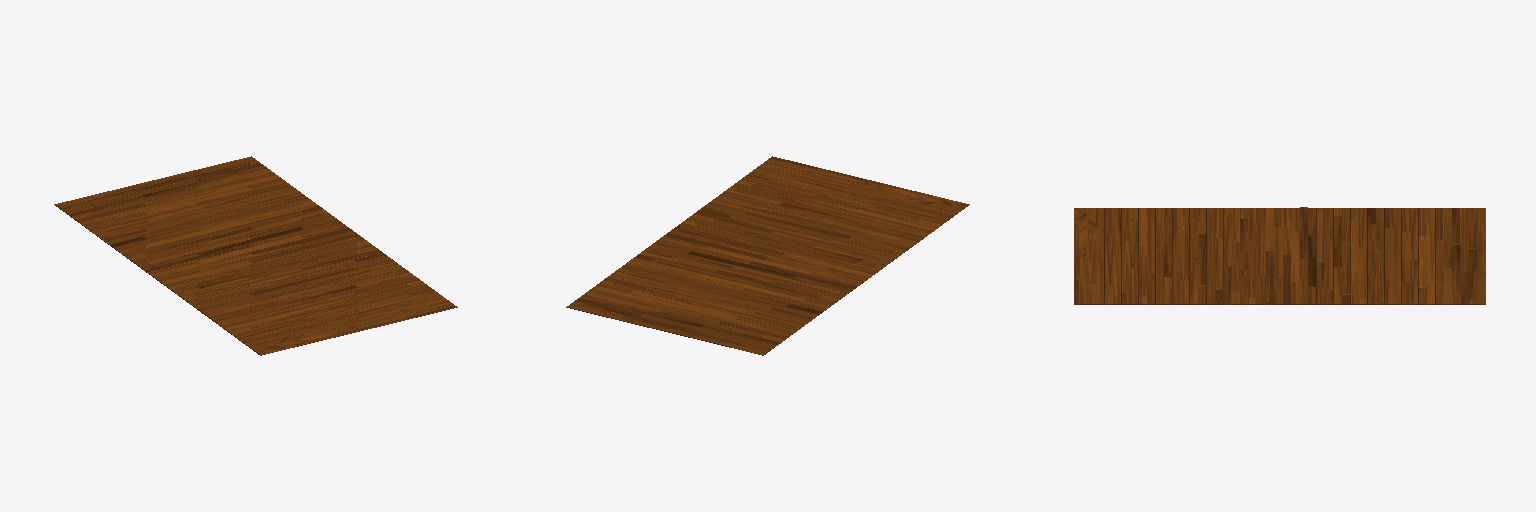
The picture shows the model from 3 angles: view 1: azimuth 30°, elevation 25°; view 2: azimuth 150°, elevation 25°; view 3: azimuth 270°, elevation 25°; orthographic projection.
Visible parts, largest first — view 1: Plane001_Malla; view 2: Plane001_Malla; view 3: Plane001_Malla.
Boxes of the visible parts, x1,y1,x2,y2 form: Plane001_Malla: [54, 156, 457, 355]; Plane001_Malla: [566, 156, 969, 355]; Plane001_Malla: [1074, 207, 1485, 304].
Size of the model in its own units: 2.39 by 0.008 by 4.32.
Materials: 1 (1 with a texture image).